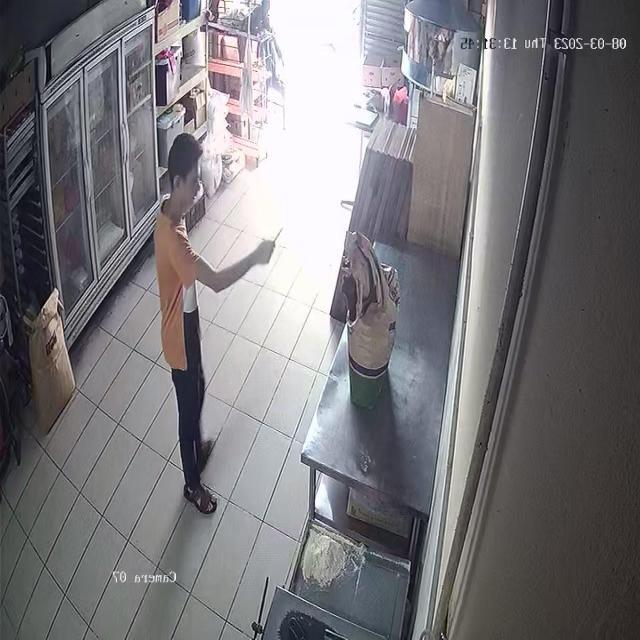Knife: (261, 214, 293, 261)
